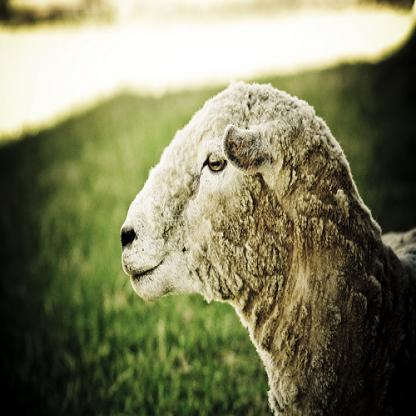sheep: (117, 80, 415, 415)
